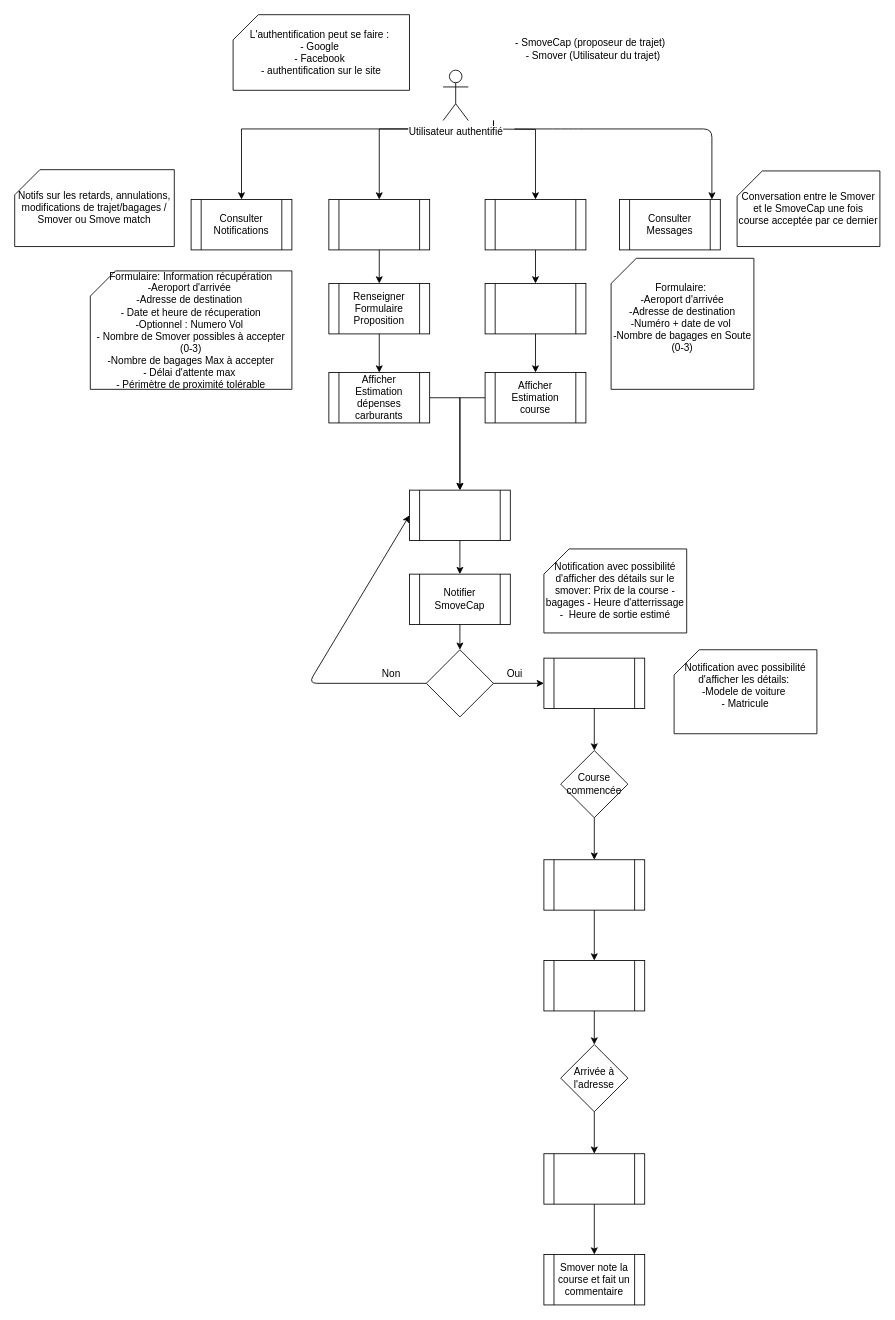
This 895x1320 diagram has some shape labels left out. Here are the shapes that lost their labels. From the top down, the box of each, then its label:
(328, 199, 430, 250): Créer une course
(484, 199, 586, 250): Rechercher course
(484, 283, 586, 334): Renseigner Formulaire Recherche
(409, 489, 510, 541): Smove match
(425, 649, 494, 717): SmoveCap accepte la course
(543, 657, 645, 709): Notification du Smover
(543, 859, 645, 910): SmoveCap valide début de la couse
(543, 960, 645, 1011): Smover reçoit code à délivrer à l'arrivée
(543, 1153, 645, 1204): SmovCap tape le smover code
